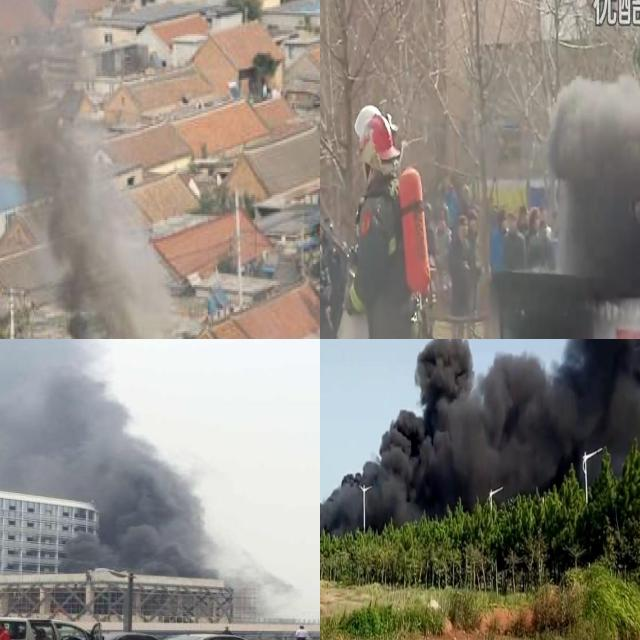smoke: (320, 339, 640, 533), (0, 0, 169, 339), (0, 339, 222, 577), (538, 77, 640, 275)
